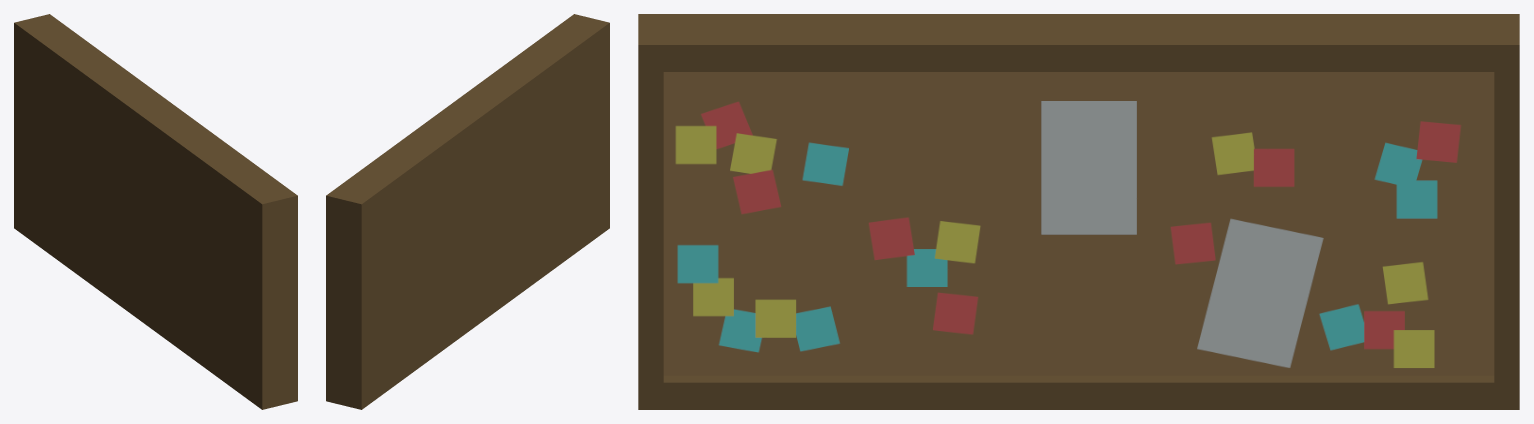
File: BulletinBoard.fbx
3 views of the same model, side by side, from view 1: azimuth 30°, elevation 25°; view 2: azimuth 150°, elevation 25°; view 3: azimuth 270°, elevation 25° (orthographic). The views are drawn at different scales.
Visible parts, largest first — view 1: pCube35; view 2: pCube35; view 3: pCube35.
Boxes of the visible parts, box(x1,y1,x2,y2) form: pCube35: box(14, 14, 297, 409); pCube35: box(326, 14, 609, 409); pCube35: box(638, 14, 1519, 409).
Bounding box in the file's own units: 1 × 5.52 × 12.07.
1 material, 1 textured.
